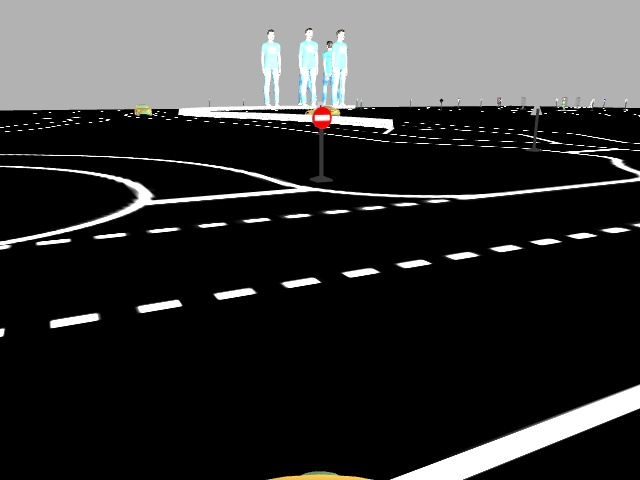NoEntry: (309, 106, 333, 129)
